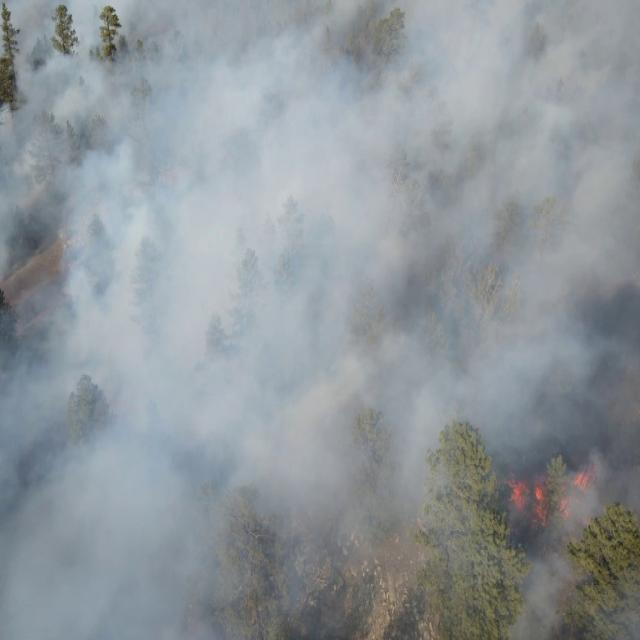fire: (502, 462, 598, 540)
smoke: (0, 0, 640, 640)
